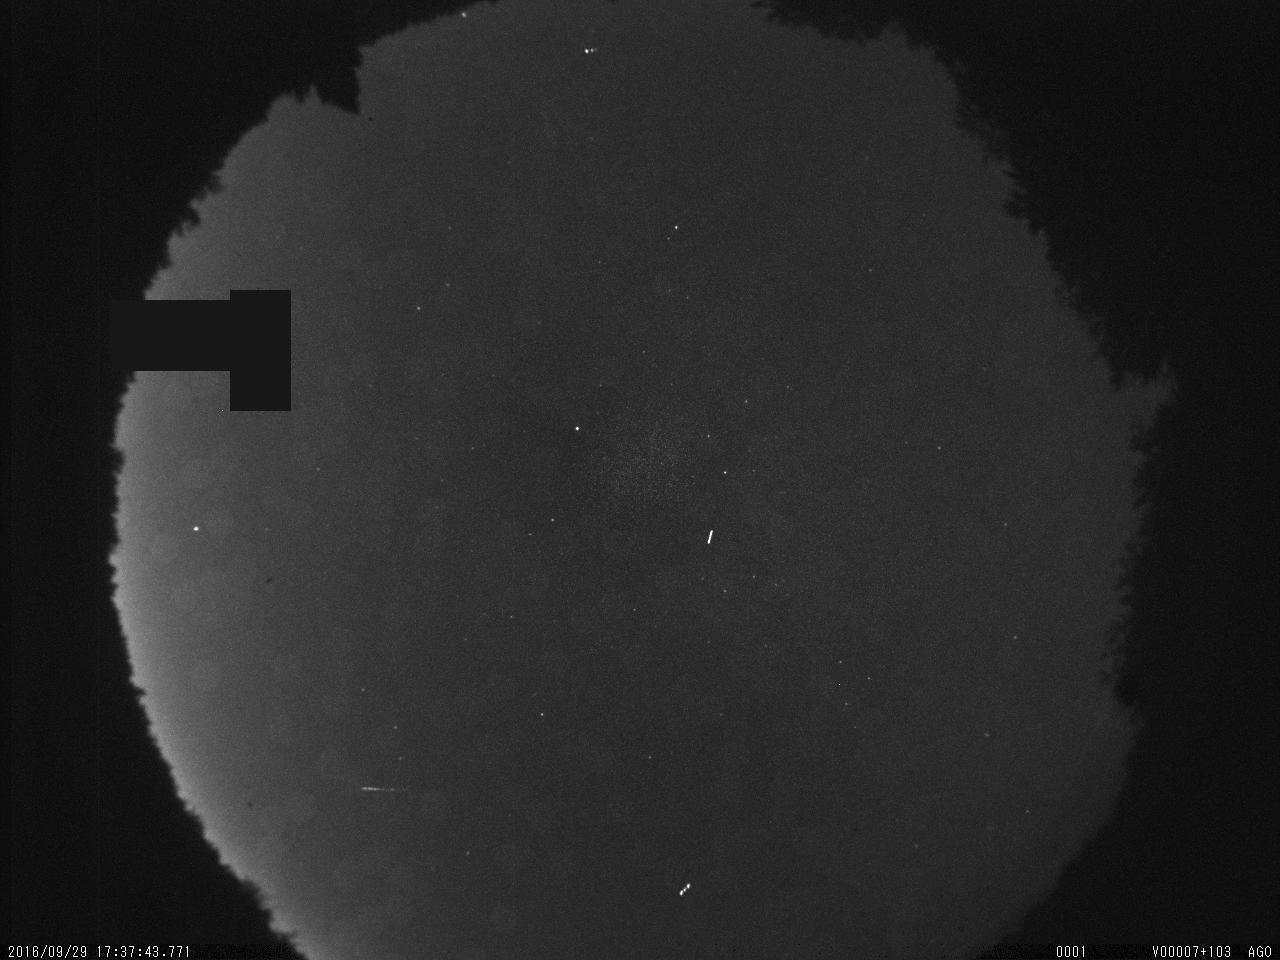Meteor: (358, 779, 409, 803)
